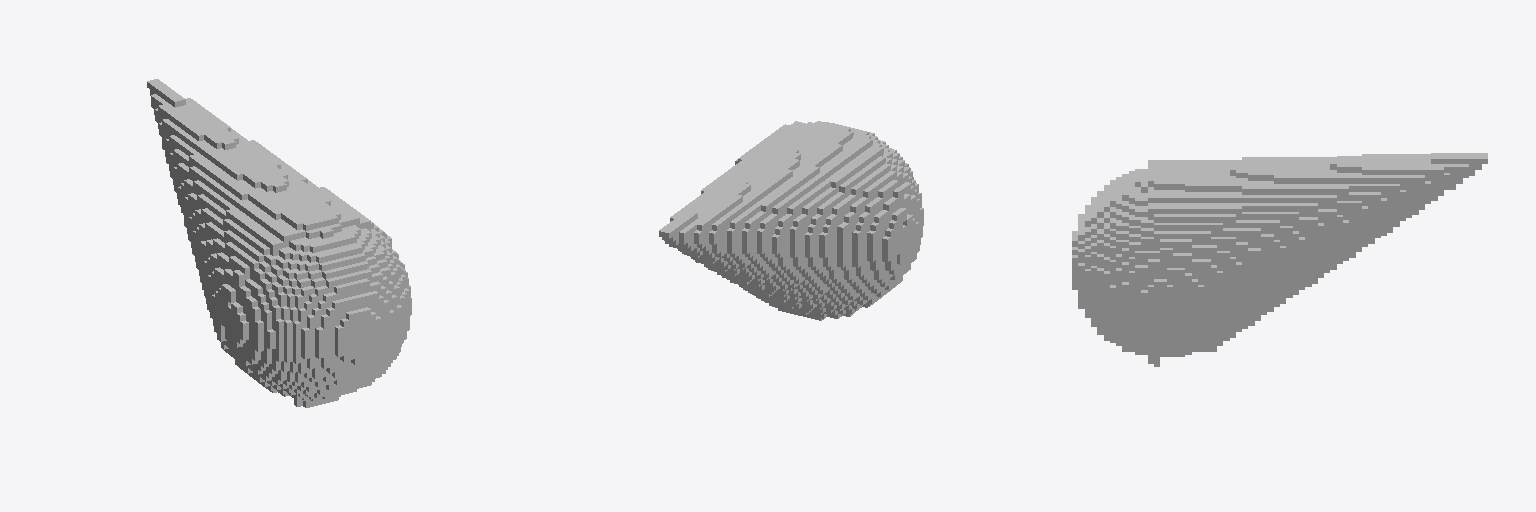
The model's file is head.obj.
3 views of the same model, side by side, from view 1: azimuth 30°, elevation 25°; view 2: azimuth 150°, elevation 25°; view 3: azimuth 270°, elevation 25° (orthographic).
Visible parts, largest first — view 1: Ida; view 2: Ida; view 3: Ida.
Part boxes in pixels (x1,y1,x2,y2): Ida: (147,79,411,407); Ida: (659,121,923,320); Ida: (1072,153,1487,366).
Size of the model in its own units: 3 by 3.5 by 6.6.